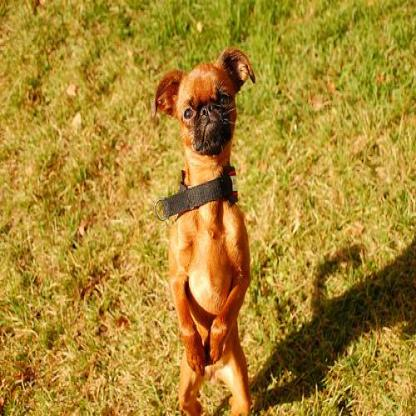Brabancon_griffon: (153, 49, 256, 414)
